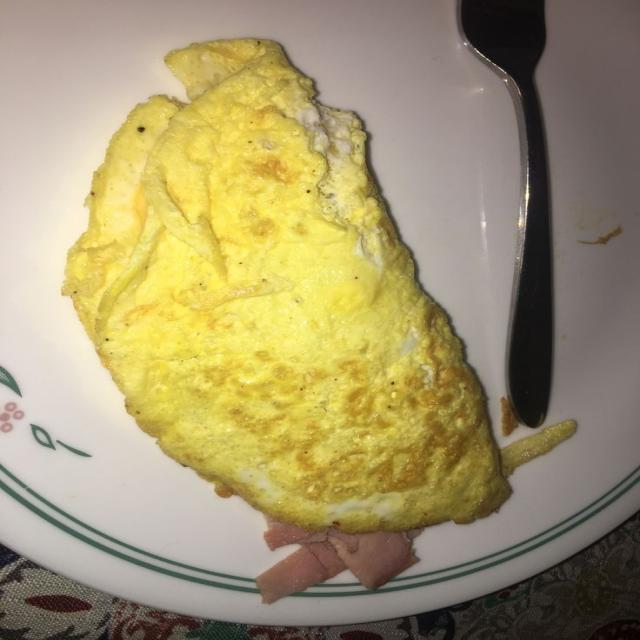omelette: (64, 40, 509, 533)
